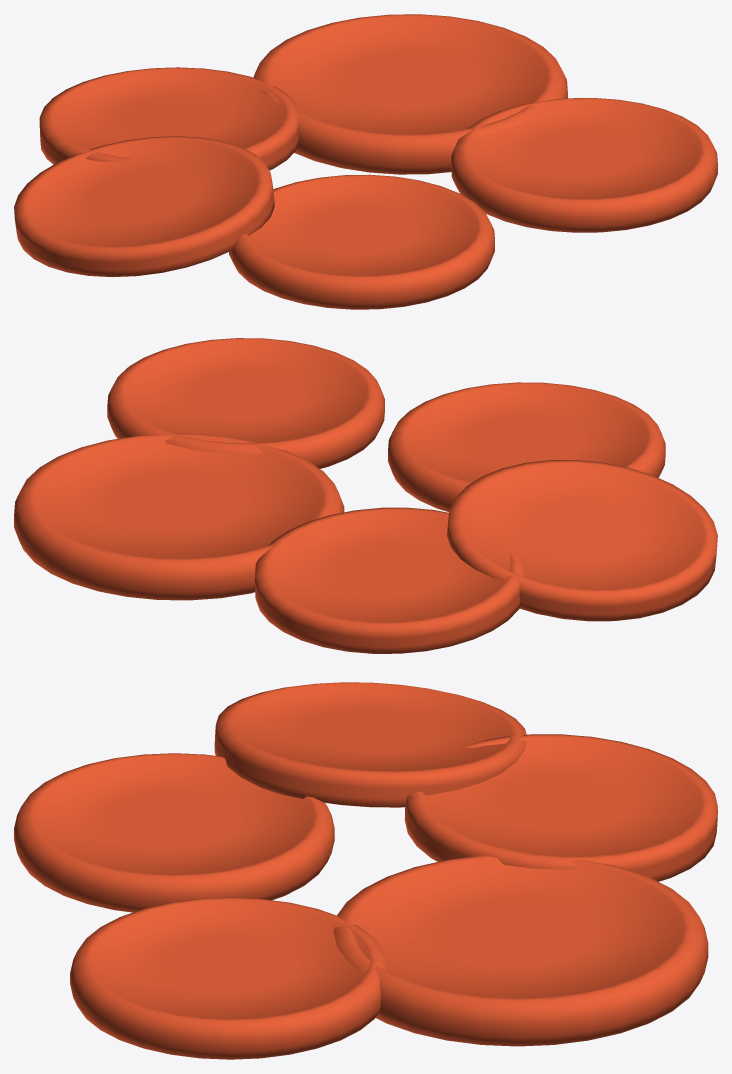
File: tomatoes.gltf
3 views of the same model, one above another, from view 1: azimuth 30°, elevation 25°; view 2: azimuth 150°, elevation 25°; view 3: azimuth 270°, elevation 25° (orthographic). The views are drawn at different scales.
Parts seen in each view (by area): view 1: Cylinder.006, Cylinder.007, Cylinder.004, Cylinder.003, Cylinder.005; view 2: Cylinder.006, Cylinder.007, Cylinder.005, Cylinder.004, Cylinder.003; view 3: Cylinder.006, Cylinder.004, Cylinder.003, Cylinder.005, Cylinder.007.
Part boxes in pixels (bbox=[...]): Cylinder.006: bbox=[253, 14, 567, 174]; Cylinder.007: bbox=[14, 136, 274, 277]; Cylinder.004: bbox=[451, 98, 717, 232]; Cylinder.003: bbox=[229, 174, 494, 309]; Cylinder.005: bbox=[39, 67, 299, 170]; Cylinder.006: bbox=[14, 433, 344, 600]; Cylinder.007: bbox=[447, 460, 717, 621]; Cylinder.005: bbox=[255, 507, 524, 653]; Cylinder.004: bbox=[107, 338, 384, 468]; Cylinder.003: bbox=[388, 382, 665, 511]; Cylinder.006: bbox=[333, 856, 708, 1046]; Cylinder.004: bbox=[70, 897, 387, 1059]; Cylinder.003: bbox=[14, 753, 334, 912]; Cylinder.005: bbox=[404, 734, 717, 881]; Cylinder.007: bbox=[214, 682, 526, 807].
Size of the model in its own units: 5.5 by 0.5079 by 4.58.
